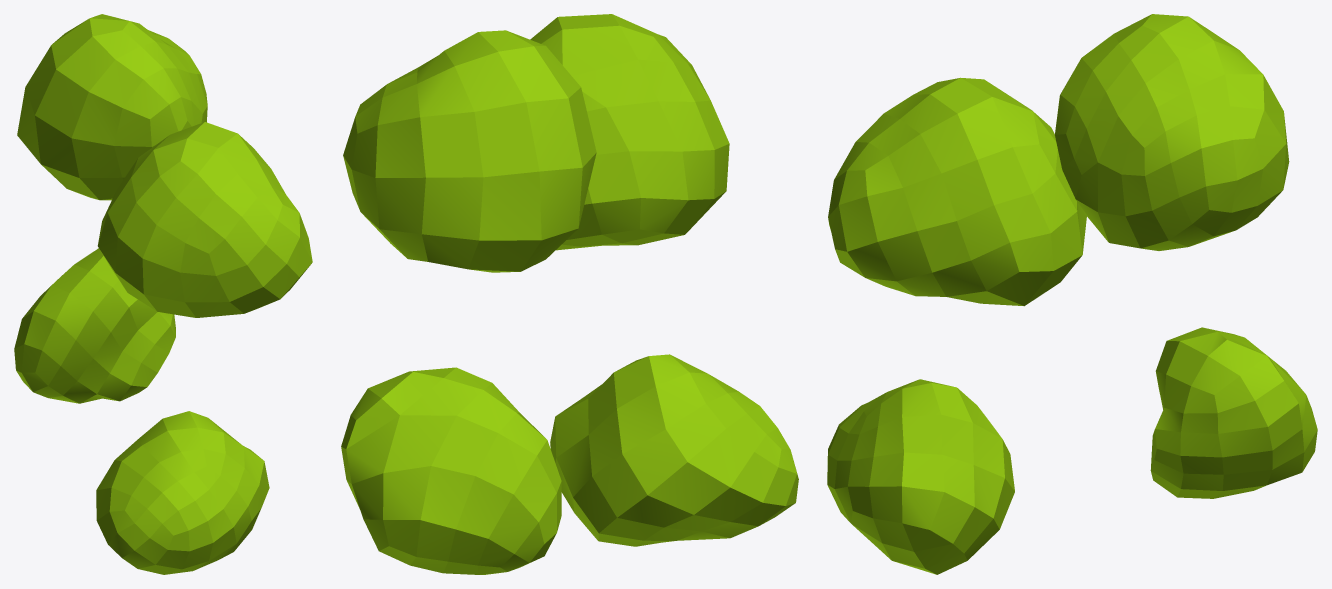
File: tree_big_2_round.fbx
3 views of the same model, side by side, from view 1: azimuth 30°, elevation 25°; view 2: azimuth 150°, elevation 25°; view 3: azimuth 270°, elevation 25° (orthographic). The views are drawn at different scales.
Visible parts, largest first — view 1: tree_big_2_round; view 2: tree_big_2_round; view 3: tree_big_2_round.
Part boxes in pixels (box(x1,y1,x2,y2)): tree_big_2_round: box(14, 14, 312, 574); tree_big_2_round: box(341, 14, 798, 574); tree_big_2_round: box(827, 14, 1317, 574).
Size of the model in its own units: 115 by 244 by 198.
